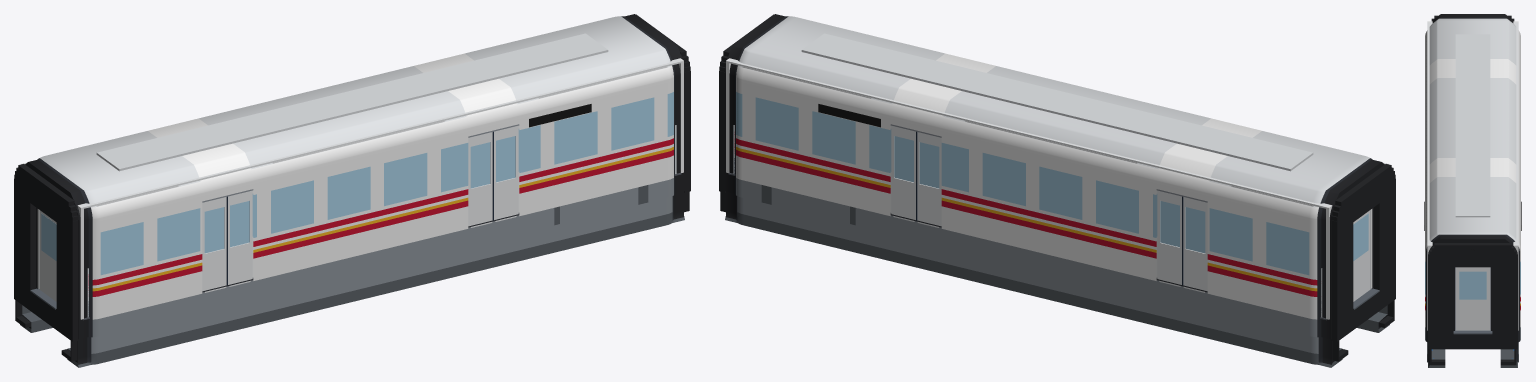
The model's file is changsha_car.obj.
3 renders of one model, left to right at view 1: azimuth 30°, elevation 25°; view 2: azimuth 150°, elevation 25°; view 3: azimuth 270°, elevation 25°, orthographic. The views are drawn at different scales.
Visible parts, largest first — view 1: SHELL, SHELL_roof, SHELL_diaphragm, EXTERNAL_DOOR_4_CG_DR1_TOGGLE_TL_-0.59_X, EXTERNAL_DOOR_10_CG_DR2_TOGGLE_TL_-0.59_X, SHELL_ceiling, EXTERNAL_DOOR_5_CG_DR1_TOGGLE_TL_0.59_X, EXTERNAL_DOOR_11_CG_DR2_TOGGLE_TL_0.59_X, CONNECTING_DOOR_1_CG_CR_TOGGLE_TL_0.98_Z, SHELL_end, SHELL_ad, SHELL_sign; view 2: SHELL, SHELL_roof, SHELL_diaphragm, EXTERNAL_DOOR_7_CG_DL1_TOGGLE_TL_-0.59_X, EXTERNAL_DOOR_13_CG_DL2_TOGGLE_TL_-0.59_X, SHELL_ceiling, EXTERNAL_DOOR_8_CG_DL1_TOGGLE_TL_0.59_X, EXTERNAL_DOOR_14_CG_DL2_TOGGLE_TL_0.59_X, CONNECTING_DOOR_1_CG_CR_TOGGLE_TL_0.98_Z, SHELL_end, SHELL_ad, SHELL_sign; view 3: SHELL, SHELL_diaphragm, SHELL_roof, CONNECTING_DOOR_2_CG_CF_TOGGLE_TL_0.98_Z, SHELL_ceiling, SHELL_end, SHELL_gangway, SHELL_floor.
Boxes of the visible parts, box(x1,y1,x2,y2) form: SHELL: box(20, 14, 685, 367); SHELL_roof: box(96, 33, 608, 171); SHELL_diaphragm: box(14, 14, 690, 361); EXTERNAL_DOOR_4_CG_DR1_TOGGLE_TL_-0.59_X: box(202, 196, 227, 291); EXTERNAL_DOOR_10_CG_DR2_TOGGLE_TL_-0.59_X: box(468, 131, 493, 226); SHELL_ceiling: box(23, 59, 681, 208); EXTERNAL_DOOR_5_CG_DR1_TOGGLE_TL_0.59_X: box(228, 190, 252, 284); EXTERNAL_DOOR_11_CG_DR2_TOGGLE_TL_0.59_X: box(494, 125, 518, 219); CONNECTING_DOOR_1_CG_CR_TOGGLE_TL_0.98_Z: box(39, 210, 56, 301); SHELL_end: box(21, 58, 683, 319); SHELL_ad: box(96, 66, 667, 206); SHELL_sign: box(529, 104, 591, 127); SHELL: box(724, 14, 1389, 367); SHELL_roof: box(801, 33, 1313, 171); SHELL_diaphragm: box(719, 14, 1395, 361); EXTERNAL_DOOR_7_CG_DL1_TOGGLE_TL_-0.59_X: box(1182, 196, 1207, 291); EXTERNAL_DOOR_13_CG_DL2_TOGGLE_TL_-0.59_X: box(916, 131, 941, 226); SHELL_ceiling: box(728, 59, 1386, 208); EXTERNAL_DOOR_8_CG_DL1_TOGGLE_TL_0.59_X: box(1157, 190, 1181, 284); EXTERNAL_DOOR_14_CG_DL2_TOGGLE_TL_0.59_X: box(891, 125, 915, 219); CONNECTING_DOOR_1_CG_CR_TOGGLE_TL_0.98_Z: box(1353, 210, 1370, 301); SHELL_end: box(726, 58, 1388, 319); SHELL_ad: box(742, 66, 1313, 206); SHELL_sign: box(818, 104, 880, 127); SHELL: box(1425, 14, 1520, 367); SHELL_diaphragm: box(1428, 15, 1517, 365); SHELL_roof: box(1455, 34, 1490, 217); CONNECTING_DOOR_2_CG_CF_TOGGLE_TL_0.98_Z: box(1455, 267, 1490, 330); SHELL_ceiling: box(1427, 22, 1518, 244); SHELL_end: box(1427, 21, 1518, 330); SHELL_gangway: box(1453, 329, 1492, 334); SHELL_floor: box(1455, 267, 1490, 329).
Size of the model in its own units: 15.82 by 4.18 by 2.82.
Materials: 1 (1 with a texture image).
